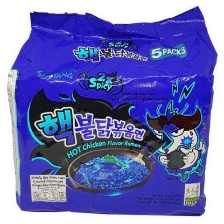snack: (1, 0, 224, 223)
